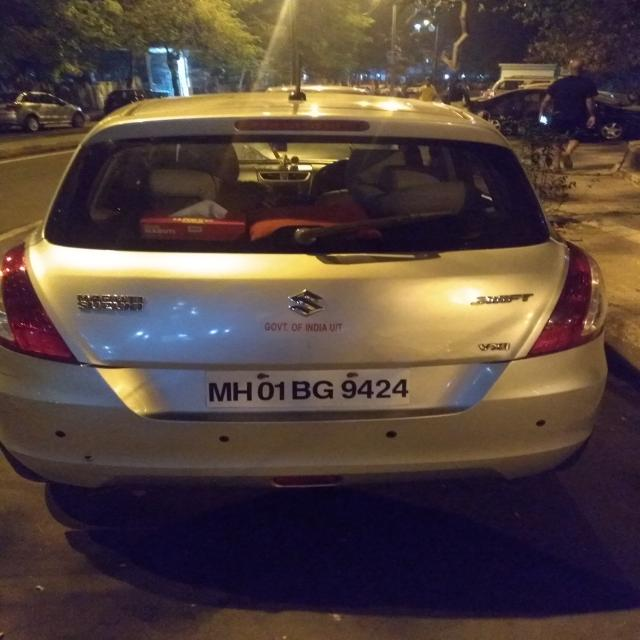Number-Plate: (201, 371, 413, 404)
